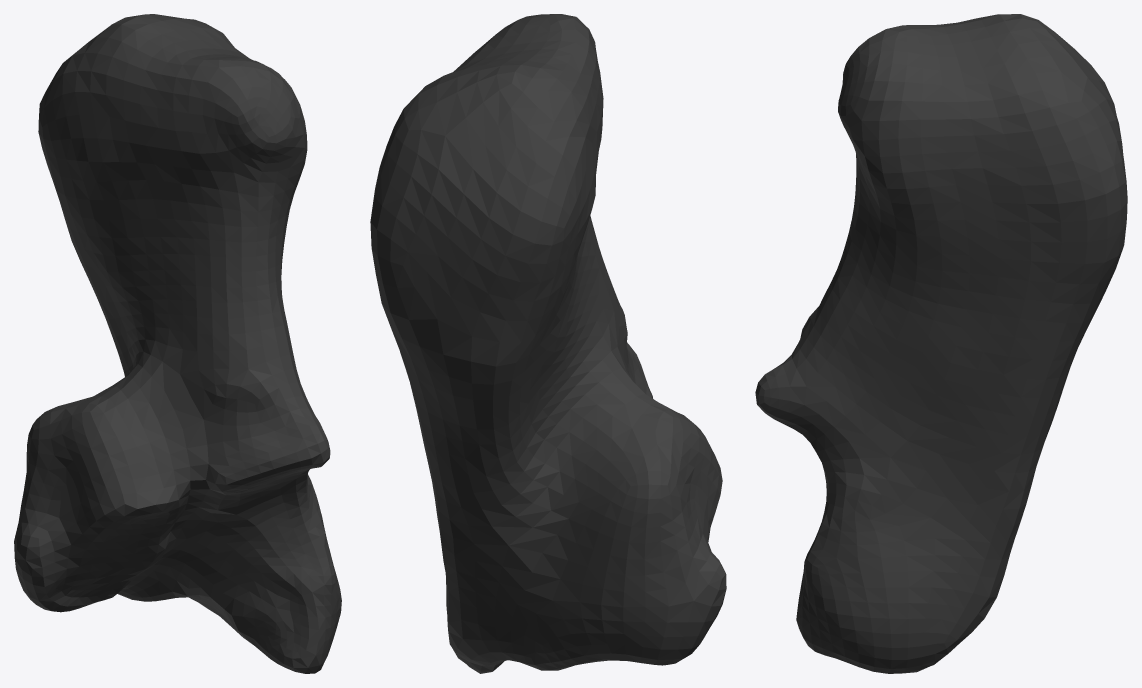
Rendered from Calcaneus.glb.
3 views of the same model, side by side, from view 1: azimuth 30°, elevation 25°; view 2: azimuth 150°, elevation 25°; view 3: azimuth 270°, elevation 25° (orthographic). The views are drawn at different scales.
Visible parts, largest first — view 1: Calcaneus; view 2: Calcaneus; view 3: Calcaneus.
Part boxes in pixels (x1,y1,x2,y2): Calcaneus: [14, 14, 341, 673]; Calcaneus: [370, 14, 726, 673]; Calcaneus: [755, 14, 1127, 673].
Bounding box in the file's own units: 138 × 296 × 163.
Materials: 1 (1 with a texture image).
